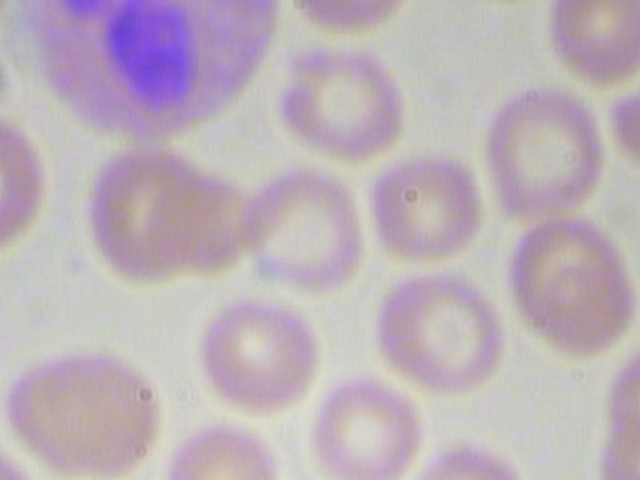RBC: (0, 339, 167, 478), (477, 79, 612, 226), (503, 209, 638, 356), (196, 283, 323, 418), (377, 266, 504, 400), (276, 39, 411, 162), (233, 165, 368, 288), (367, 146, 485, 270), (305, 374, 423, 480), (165, 416, 291, 480), (0, 114, 48, 261), (409, 442, 527, 480), (0, 427, 46, 480)
WBC: (8, 0, 283, 147)
